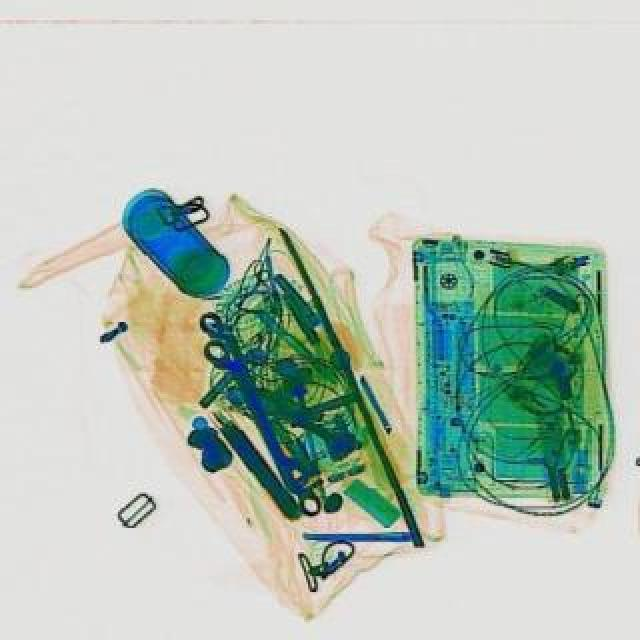scissors: (190, 306, 326, 520)
